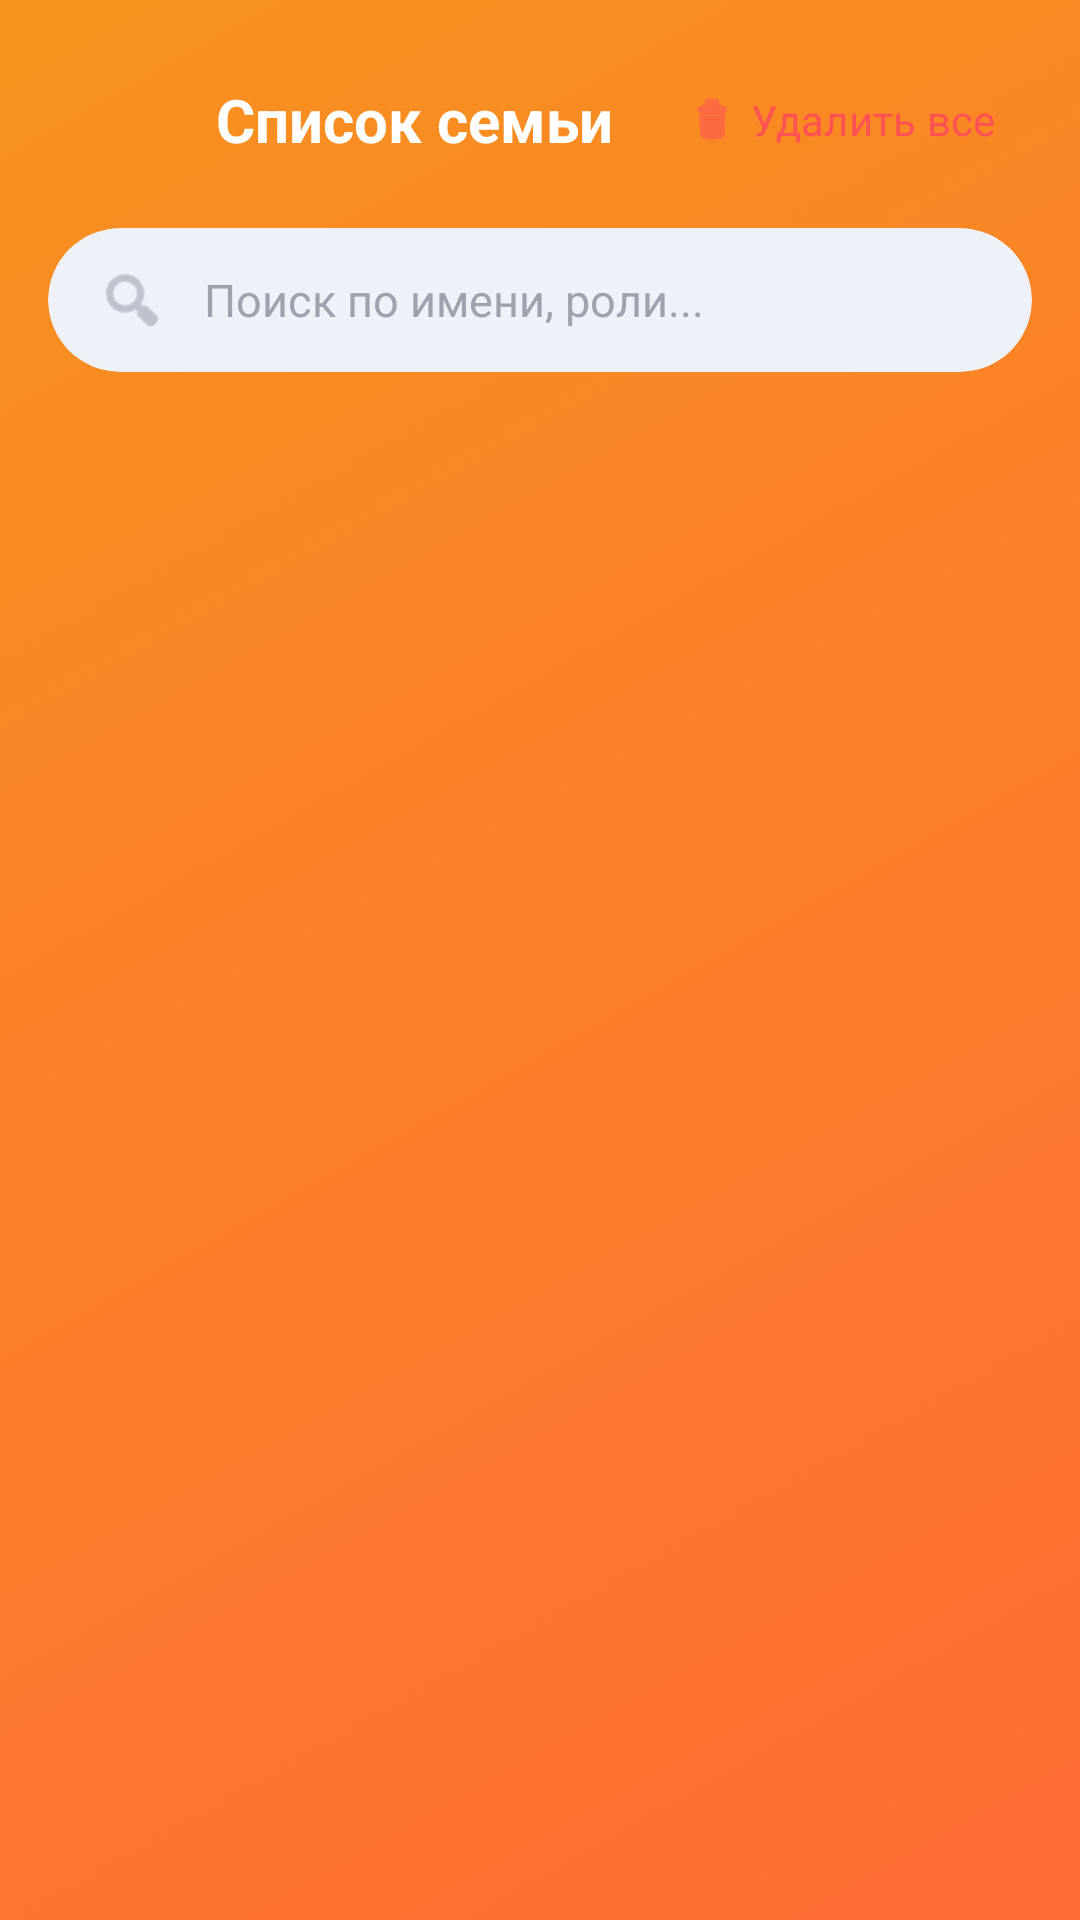

Where to tap for icons on this 1080 × 1920 app screen, as (x=x, y=y):
search: (x=132, y=300)
